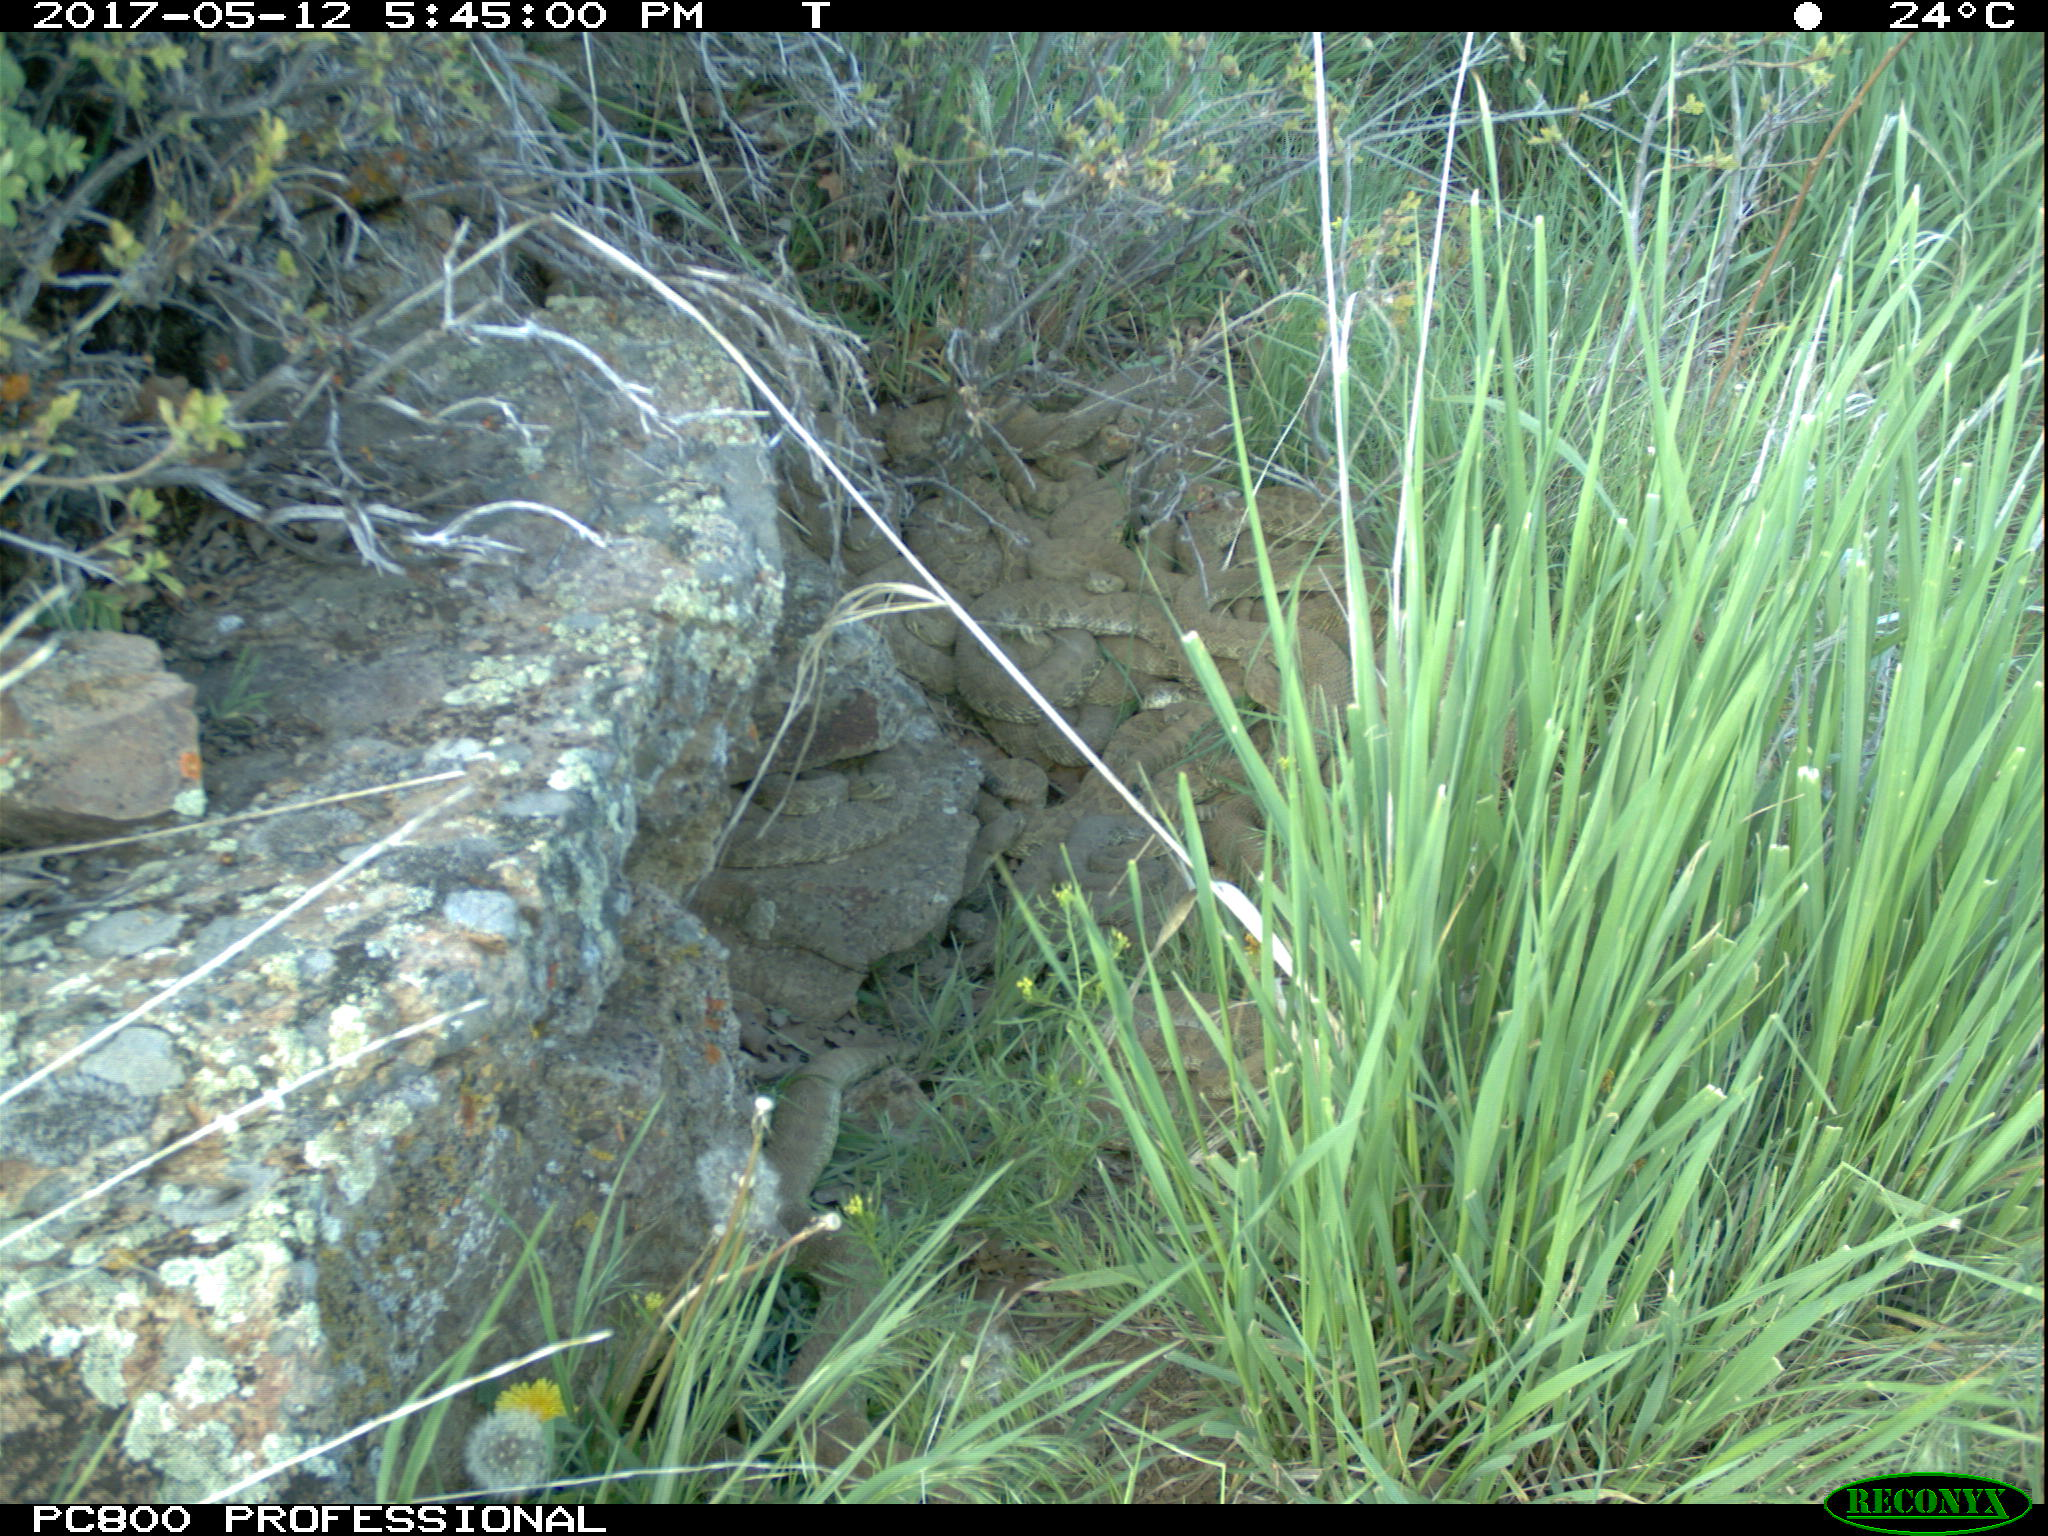snake: (769, 1042, 930, 1488), (951, 582, 1384, 744), (897, 402, 1155, 587), (1027, 741, 1274, 933), (1095, 976, 1298, 1120), (719, 768, 921, 871), (1187, 489, 1382, 589)
